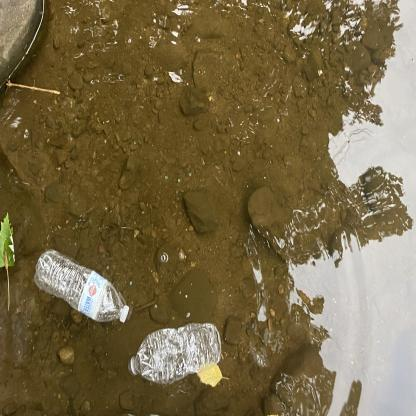trash: (30, 244, 134, 330), (127, 320, 226, 388)
